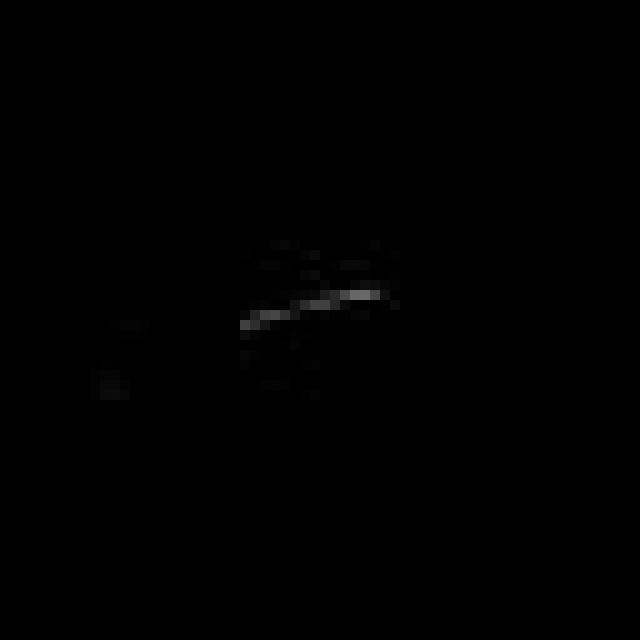1 -one-: (226, 276, 387, 354)
